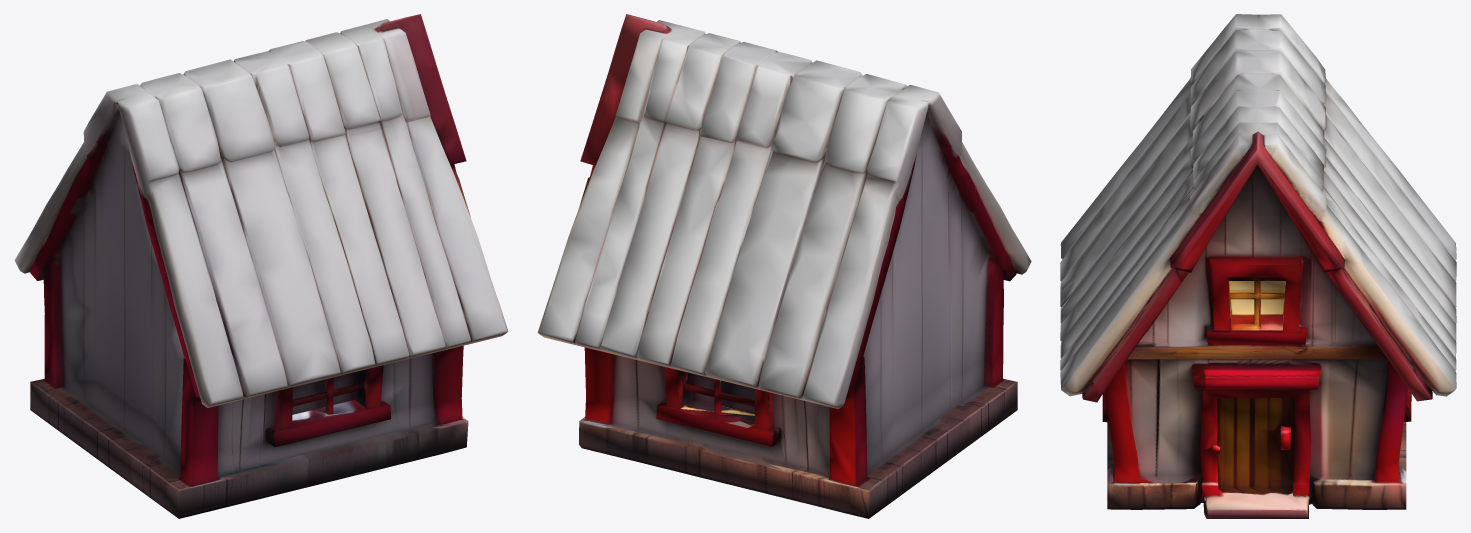
File: MomeyBuild.fbx
3 views of the same model, side by side, from view 1: azimuth 30°, elevation 25°; view 2: azimuth 150°, elevation 25°; view 3: azimuth 270°, elevation 25° (orthographic).
Visible parts, largest first — view 1: tripo_node_0d85112f; view 2: tripo_node_0d85112f; view 3: tripo_node_0d85112f.
Part boxes in pixels (<box>): tripo_node_0d85112f: <box>14,14,508,518</box>; tripo_node_0d85112f: <box>537,14,1031,518</box>; tripo_node_0d85112f: <box>1060,14,1456,518</box>.
Bounding box in the file's own units: 89.64 × 100 × 95.89.
1 material, 1 textured.
